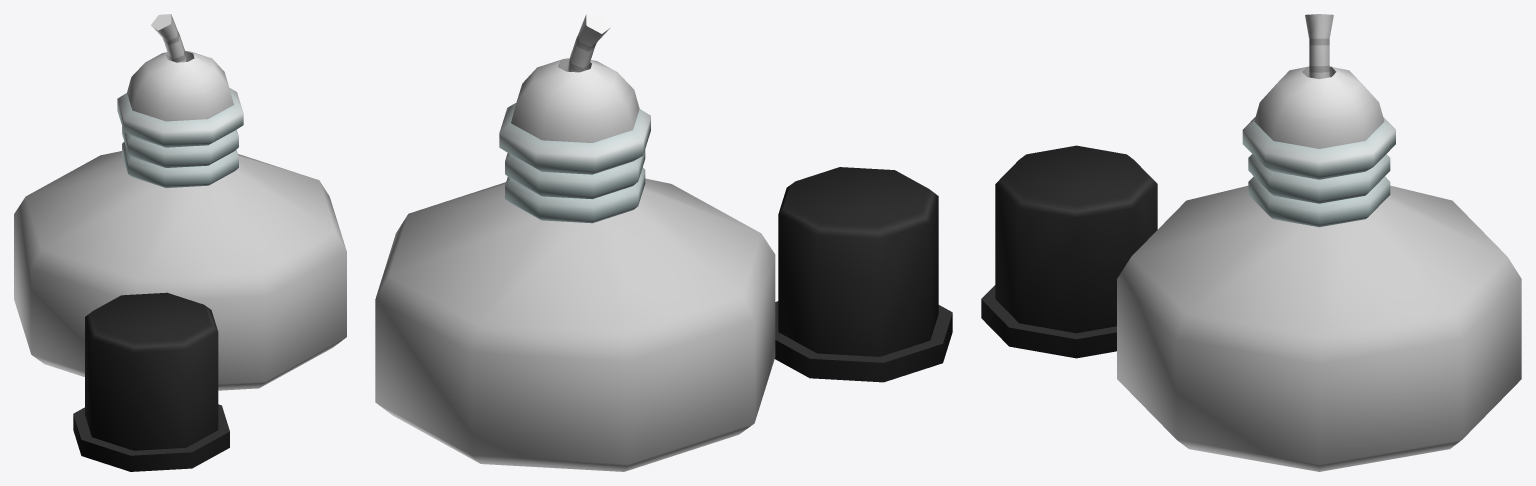
File: CR_sci_Lamp_001.FBX
The picture shows the model from 3 angles, left to right: view 1: azimuth 30°, elevation 25°; view 2: azimuth 150°, elevation 25°; view 3: azimuth 270°, elevation 25°; orthographic projection. The views are drawn at different scales.
Visible parts, largest first — view 1: CR_sci_Lamp_001_al, CR_sci_Lamp_001; view 2: CR_sci_Lamp_001_al, CR_sci_Lamp_001; view 3: CR_sci_Lamp_001_al, CR_sci_Lamp_001.
Boxes of the visible parts, x1,y1,x2,y2 form: CR_sci_Lamp_001_al: (14,151,346,390); CR_sci_Lamp_001: (73,14,243,471); CR_sci_Lamp_001_al: (375,178,775,471); CR_sci_Lamp_001: (499,14,952,382); CR_sci_Lamp_001_al: (1117,185,1521,471); CR_sci_Lamp_001: (981,14,1395,358).
Bounding box in the file's own units: 12.06 × 10.45 × 13.66.
